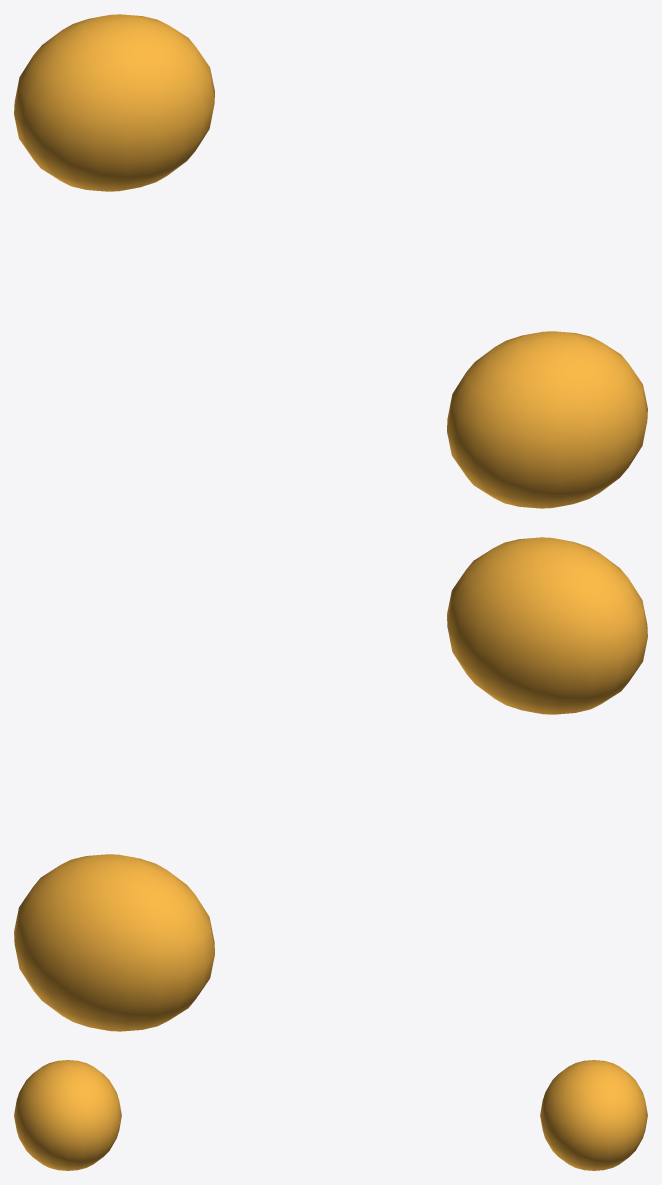
The model's file is indicators_rear_hd.glb.
3 renders of one model, top to bottom at view 1: azimuth 30°, elevation 25°; view 2: azimuth 150°, elevation 25°; view 3: azimuth 270°, elevation 25°, orthographic. The views are drawn at different scales.
Parts seen in each view (by area): view 1: S51_HD_indicators_rear; view 2: S51_HD_indicators_rear; view 3: S51_HD_indicators_rear.
Boxes of the visible parts, x1,y1,x2,y2 form: S51_HD_indicators_rear: (14, 14, 647, 508); S51_HD_indicators_rear: (14, 537, 647, 1031); S51_HD_indicators_rear: (14, 1060, 647, 1170).
Bounding box in the file's own units: 0.19 × 0.16 × 0.94.
